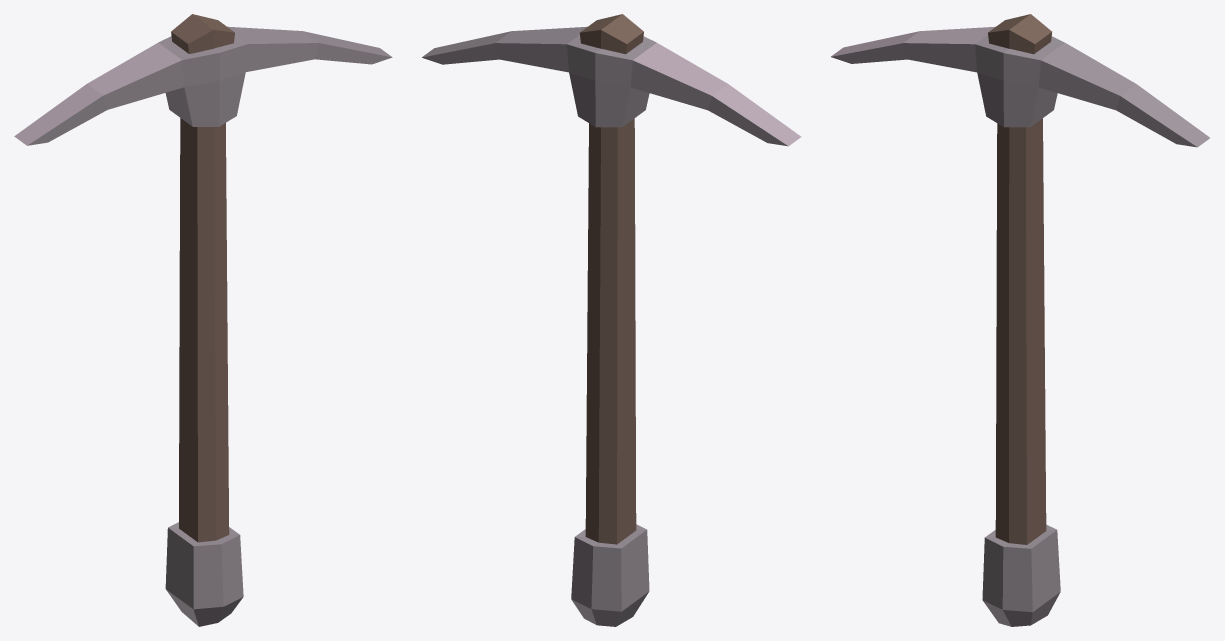
The model's file is Pickaxe.fbx.
3 views of the same model, side by side, from view 1: azimuth 30°, elevation 25°; view 2: azimuth 150°, elevation 25°; view 3: azimuth 330°, elevation 25° (orthographic).
Parts seen in each view (by area): view 1: pickaxe2; view 2: pickaxe2; view 3: pickaxe2.
Boxes of the visible parts, bbox=[...] form: pickaxe2: bbox=[14, 14, 392, 626]; pickaxe2: bbox=[422, 14, 801, 626]; pickaxe2: bbox=[831, 14, 1209, 626].
Bounding box in the file's own units: 122 × 189 × 21.78.
